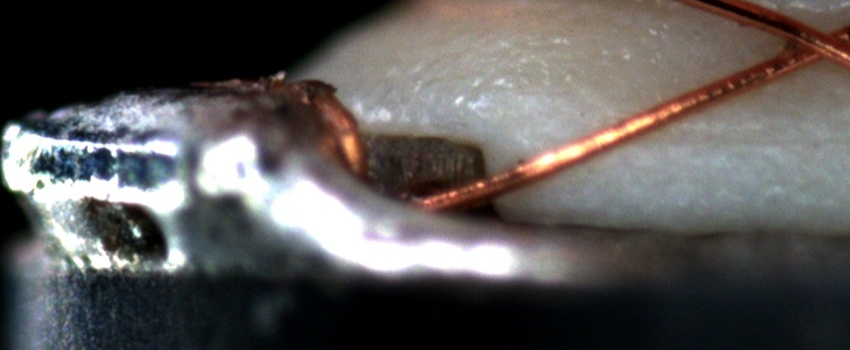CL: (765, 11, 847, 76)
DL: (623, 108, 850, 172)
TE: (297, 81, 382, 187)
